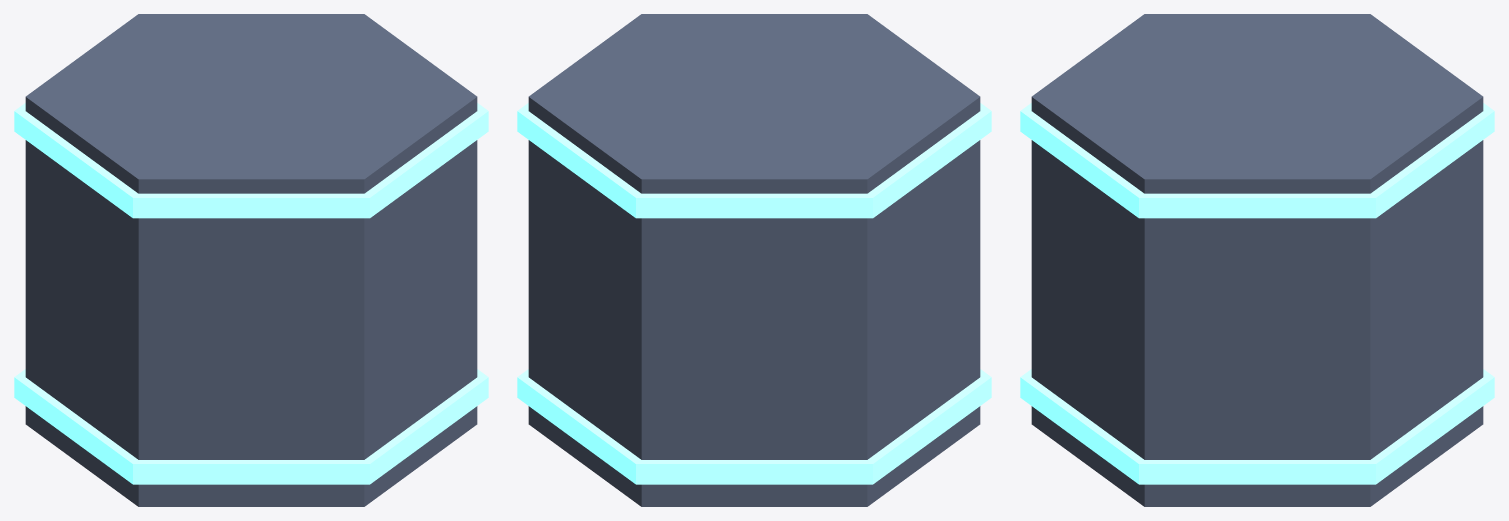
File: arena_pillar.glb
3 renders of one model, left to right at view 1: azimuth 30°, elevation 25°; view 2: azimuth 150°, elevation 25°; view 3: azimuth 270°, elevation 25°, orthographic.
Parts seen in each view (by area): view 1: Cylinder, Cylinder.002, Cylinder.001; view 2: Cylinder, Cylinder.002, Cylinder.001; view 3: Cylinder, Cylinder.002, Cylinder.001.
Part boxes in pixels (left/top/right/bottom): Cylinder: left=25, top=14, right=477, bottom=506; Cylinder.002: left=14, top=103, right=488, bottom=218; Cylinder.001: left=14, top=369, right=488, bottom=484; Cylinder: left=528, top=14, right=980, bottom=506; Cylinder.002: left=517, top=103, right=991, bottom=218; Cylinder.001: left=517, top=369, right=991, bottom=484; Cylinder: left=1031, top=14, right=1483, bottom=506; Cylinder.002: left=1020, top=103, right=1494, bottom=218; Cylinder.001: left=1020, top=369, right=1494, bottom=484.
Size of the model in its own units: 1.82 by 1.6 by 2.1.
